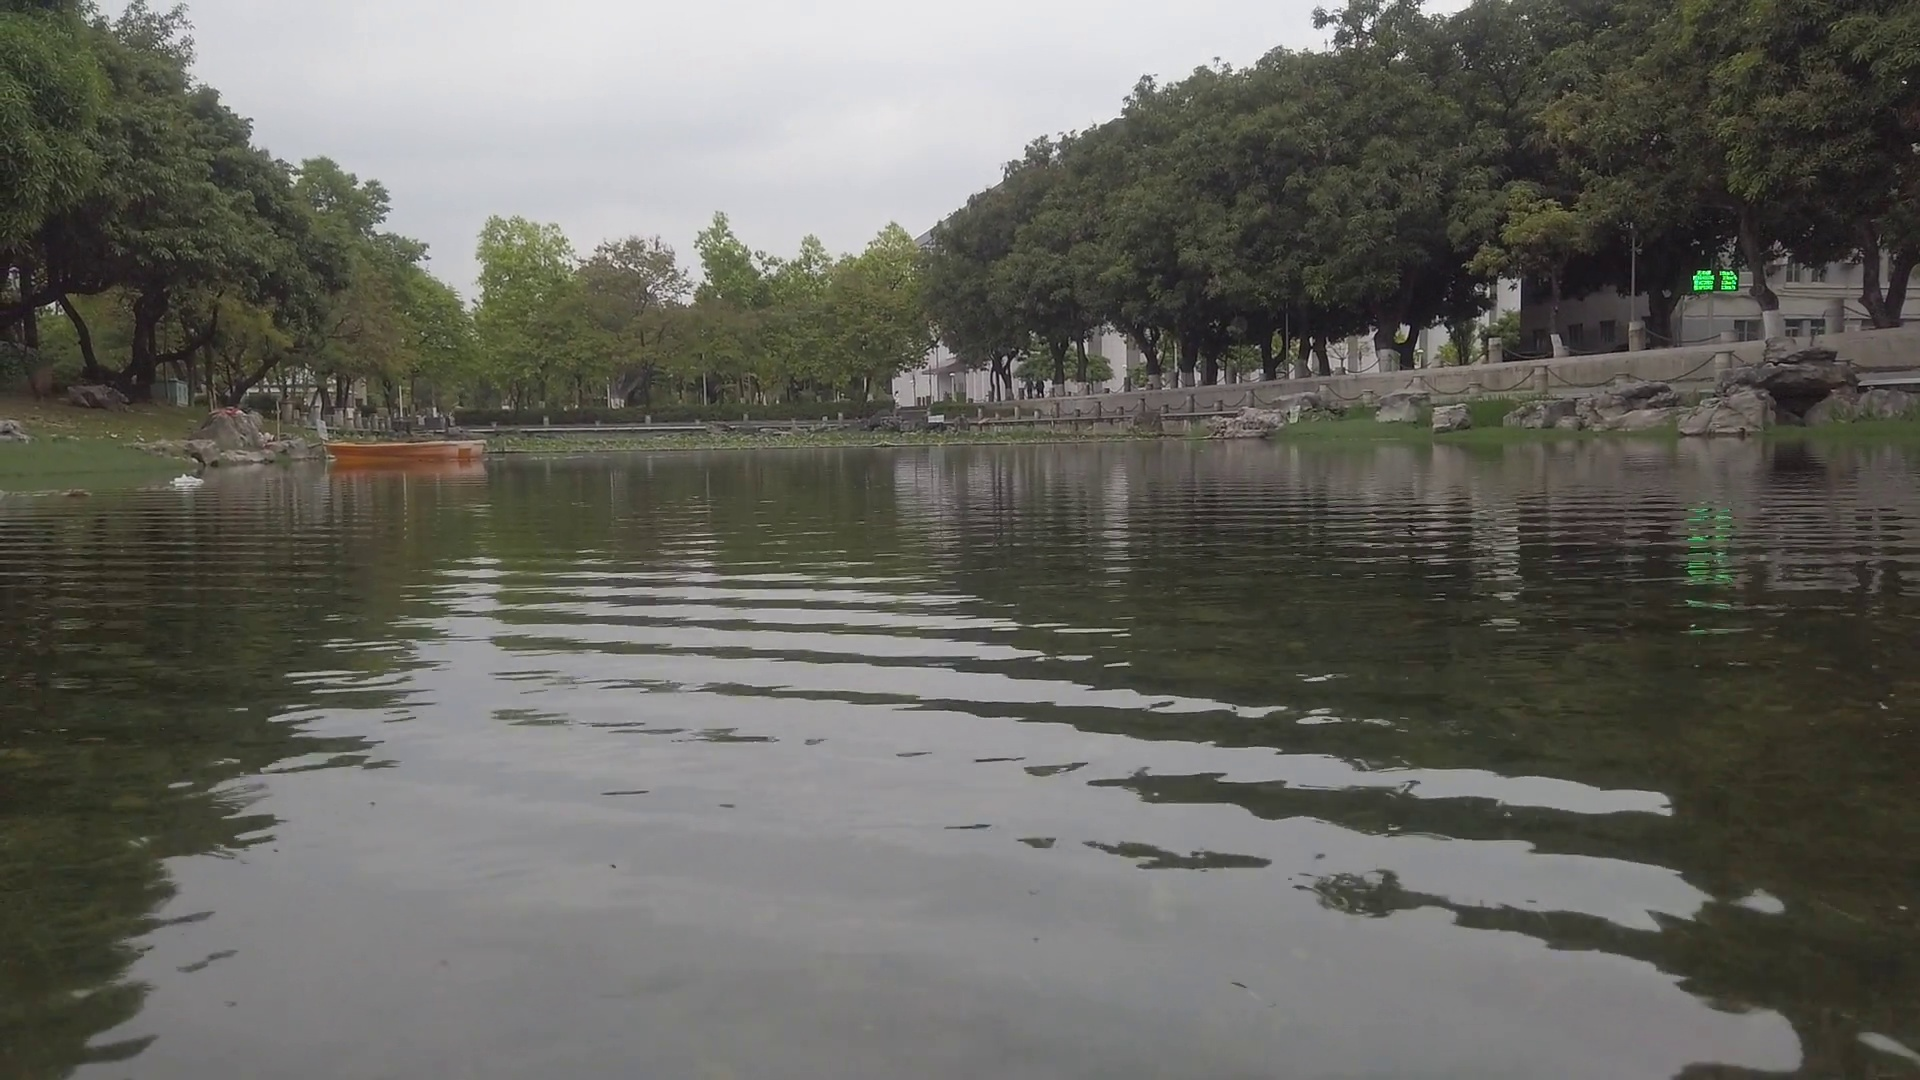plastic: (171, 476, 203, 487)
